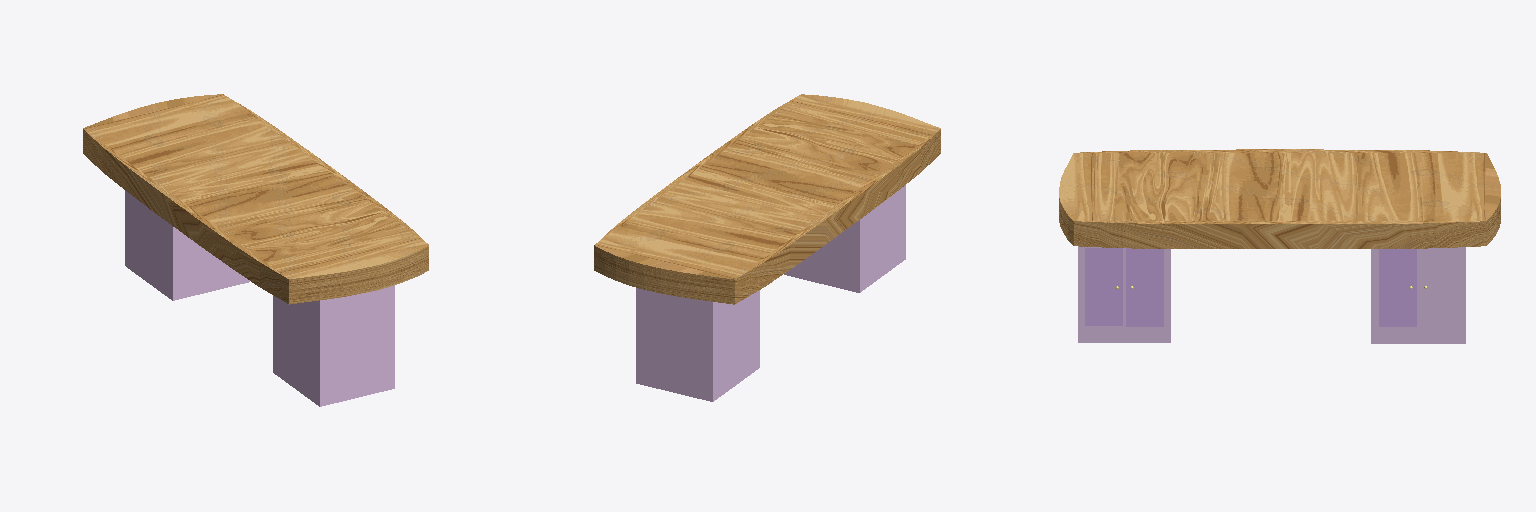
The picture shows the model from 3 angles: view 1: azimuth 30°, elevation 25°; view 2: azimuth 150°, elevation 25°; view 3: azimuth 270°, elevation 25°; orthographic projection.
Visible parts, largest first — view 1: polySurface51; view 2: polySurface51; view 3: polySurface51.
Part boxes in pixels (x1,y1,x2,y2): polySurface51: (83,94,428,406); polySurface51: (594,94,940,401); polySurface51: (1059,149,1500,343).
Bounding box in the file's own units: 0.2155 × 0.1852 × 0.538.
Materials: 11 (4 with a texture image).